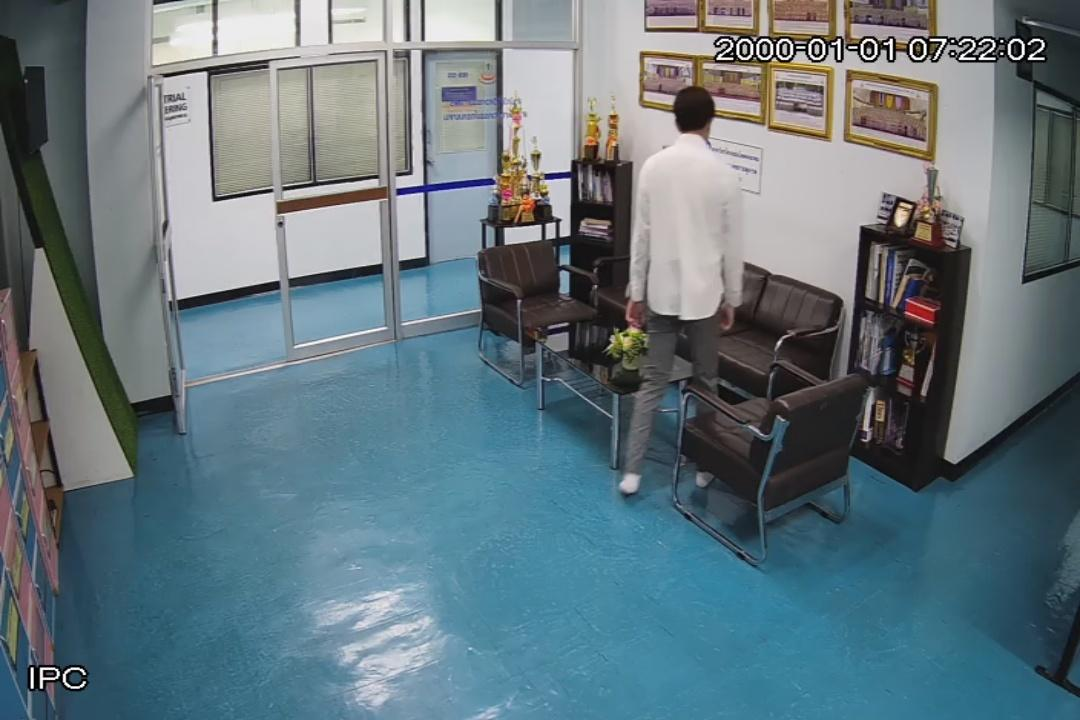normal: (622, 84, 750, 494)
